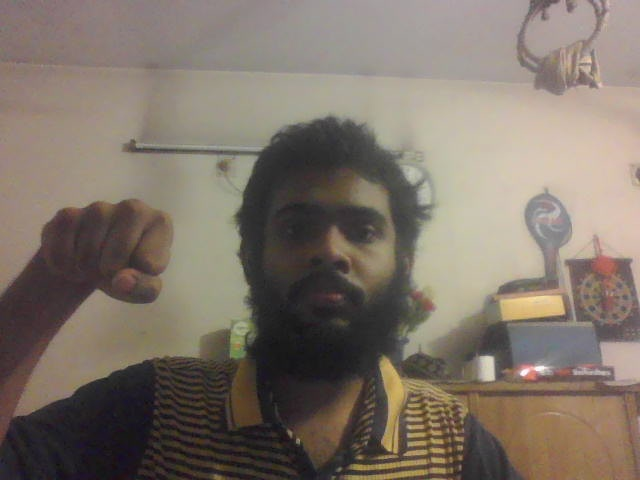Yes: (31, 199, 178, 300)
